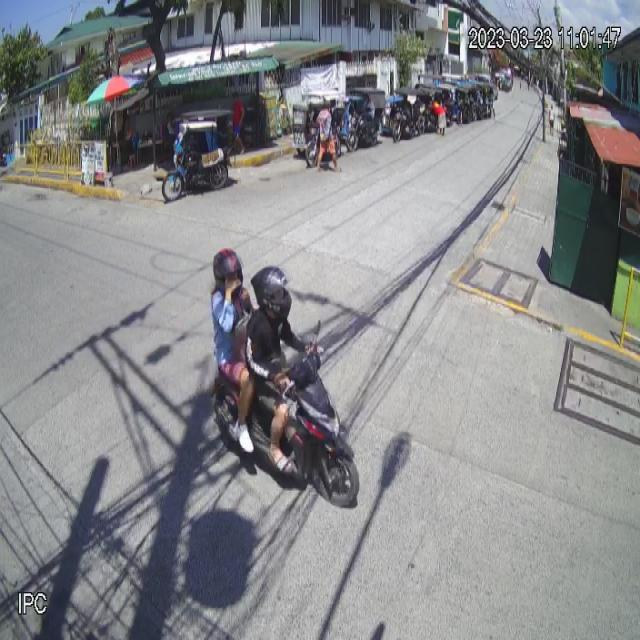Motorcycle: (212, 318, 360, 510)
Tricycle: (161, 108, 237, 204)
